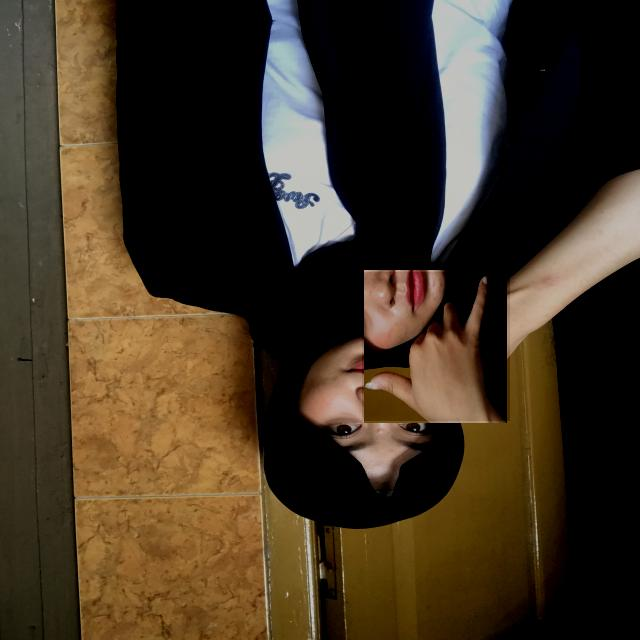telpon: (362, 272, 510, 421)
